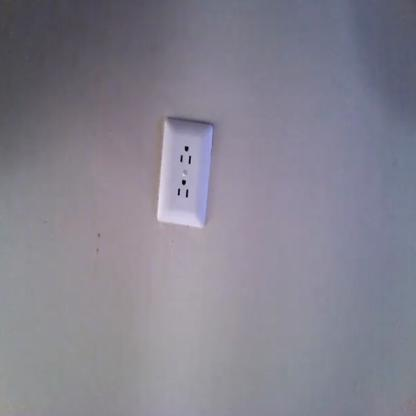OUTLET: (156, 120, 215, 228)
